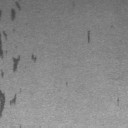red iron: (0, 90, 16, 117), (0, 30, 8, 58), (10, 2, 21, 22), (12, 54, 21, 71), (30, 54, 37, 62), (0, 70, 4, 78), (88, 30, 90, 44), (64, 80, 68, 86), (116, 98, 120, 104), (0, 10, 2, 20)
